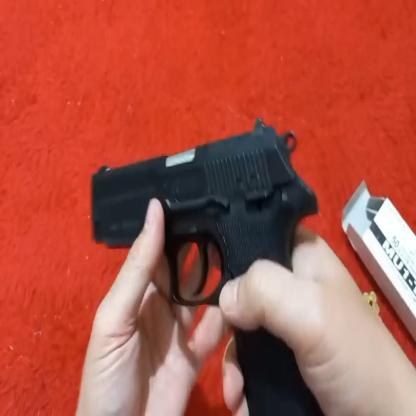handgun: (90, 126, 303, 387)
